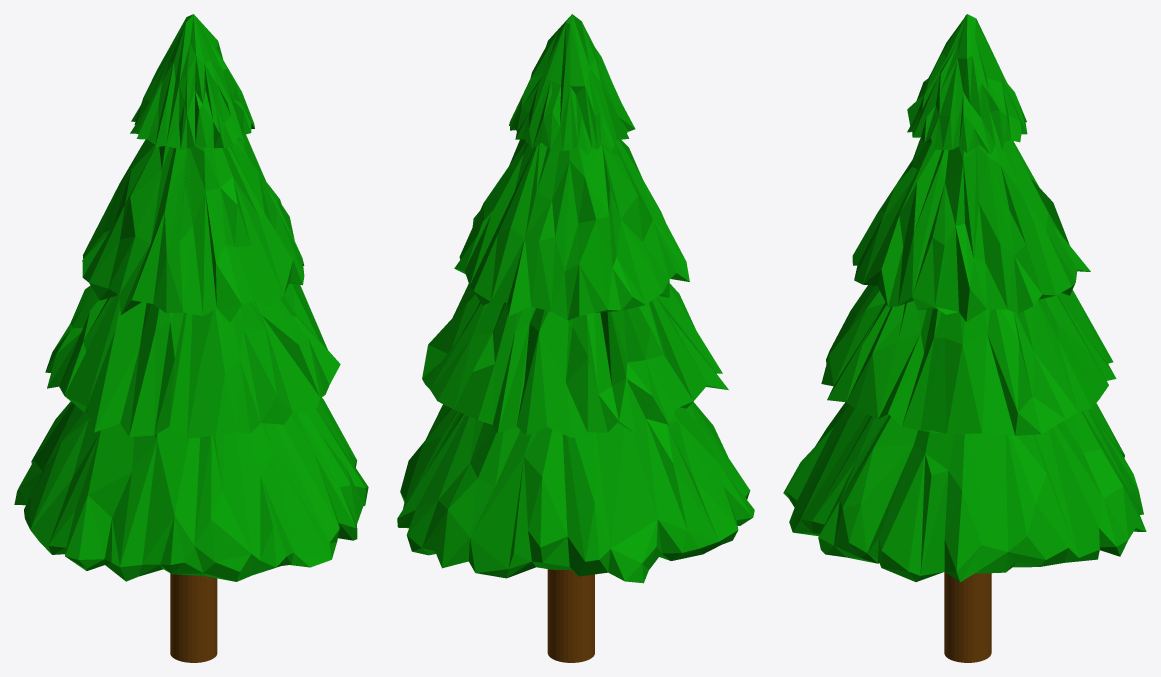
File: Trees1.fbx
3 renders of one model, left to right at view 1: azimuth 30°, elevation 25°; view 2: azimuth 150°, elevation 25°; view 3: azimuth 270°, elevation 25°, orthographic.
Parts seen in each view (by area): view 1: Tree; view 2: Tree; view 3: Tree.
Part boxes in pixels (x1,y1,x2,y2): Tree: (14,14,368,662); Tree: (397,14,754,662); Tree: (783,14,1146,662).
Bounding box in the file's own units: 438 × 852 × 439.
